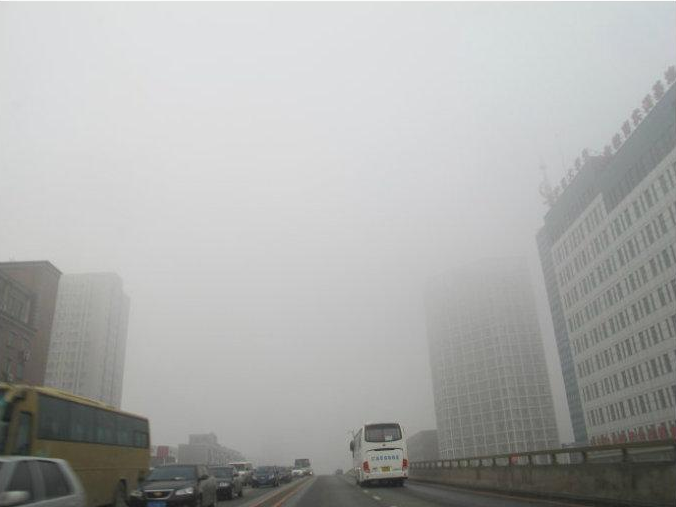bus: (1, 381, 152, 507), (349, 421, 410, 488), (291, 456, 314, 478)
car: (1, 457, 87, 507), (127, 462, 217, 507), (189, 465, 243, 499), (224, 461, 254, 487), (249, 465, 281, 489), (268, 465, 292, 483), (289, 464, 304, 479), (299, 467, 313, 476), (335, 470, 344, 476)
